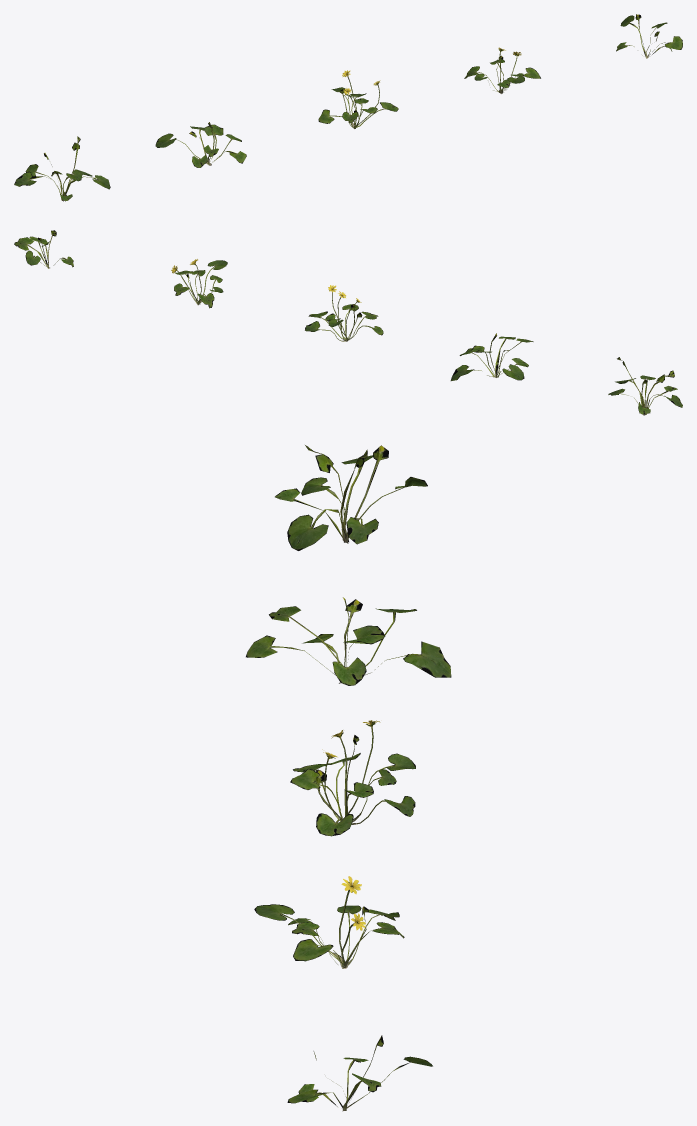
Rendered from celandine_01-high.glb.
3 renders of one model, top to bottom at view 1: azimuth 30°, elevation 25°; view 2: azimuth 150°, elevation 25°; view 3: azimuth 270°, elevation 25°, orthographic. The views are drawn at different scales.
Visible parts, largest first — view 1: celandine_01_c_LOD0, celandine_01_b_LOD0, celandine_01_a_LOD0, celandine_01_d_LOD0, celandine_01_e_LOD0; view 2: celandine_01_c_LOD0, celandine_01_b_LOD0, celandine_01_d_LOD0, celandine_01_a_LOD0, celandine_01_e_LOD0; view 3: celandine_01_a_LOD0, celandine_01_b_LOD0, celandine_01_c_LOD0, celandine_01_d_LOD0, celandine_01_e_LOD0.
Boxes of the visible parts, bbox=[...] form: celandine_01_c_LOD0: bbox=[318, 70, 398, 128]; celandine_01_b_LOD0: bbox=[155, 122, 246, 167]; celandine_01_a_LOD0: bbox=[14, 136, 110, 201]; celandine_01_d_LOD0: bbox=[464, 47, 540, 93]; celandine_01_e_LOD0: bbox=[616, 14, 682, 58]; celandine_01_c_LOD0: bbox=[305, 285, 383, 341]; celandine_01_b_LOD0: bbox=[450, 333, 533, 380]; celandine_01_d_LOD0: bbox=[171, 259, 227, 308]; celandine_01_a_LOD0: bbox=[608, 357, 682, 415]; celandine_01_e_LOD0: bbox=[14, 230, 73, 268]; celandine_01_a_LOD0: bbox=[275, 445, 427, 550]; celandine_01_b_LOD0: bbox=[246, 597, 451, 685]; celandine_01_c_LOD0: bbox=[290, 720, 415, 836]; celandine_01_d_LOD0: bbox=[254, 876, 404, 968]; celandine_01_e_LOD0: bbox=[287, 1035, 432, 1111].
Bounding box in the file's own units: 2.24 × 0.185 × 0.3051.
1 material, 1 textured.
